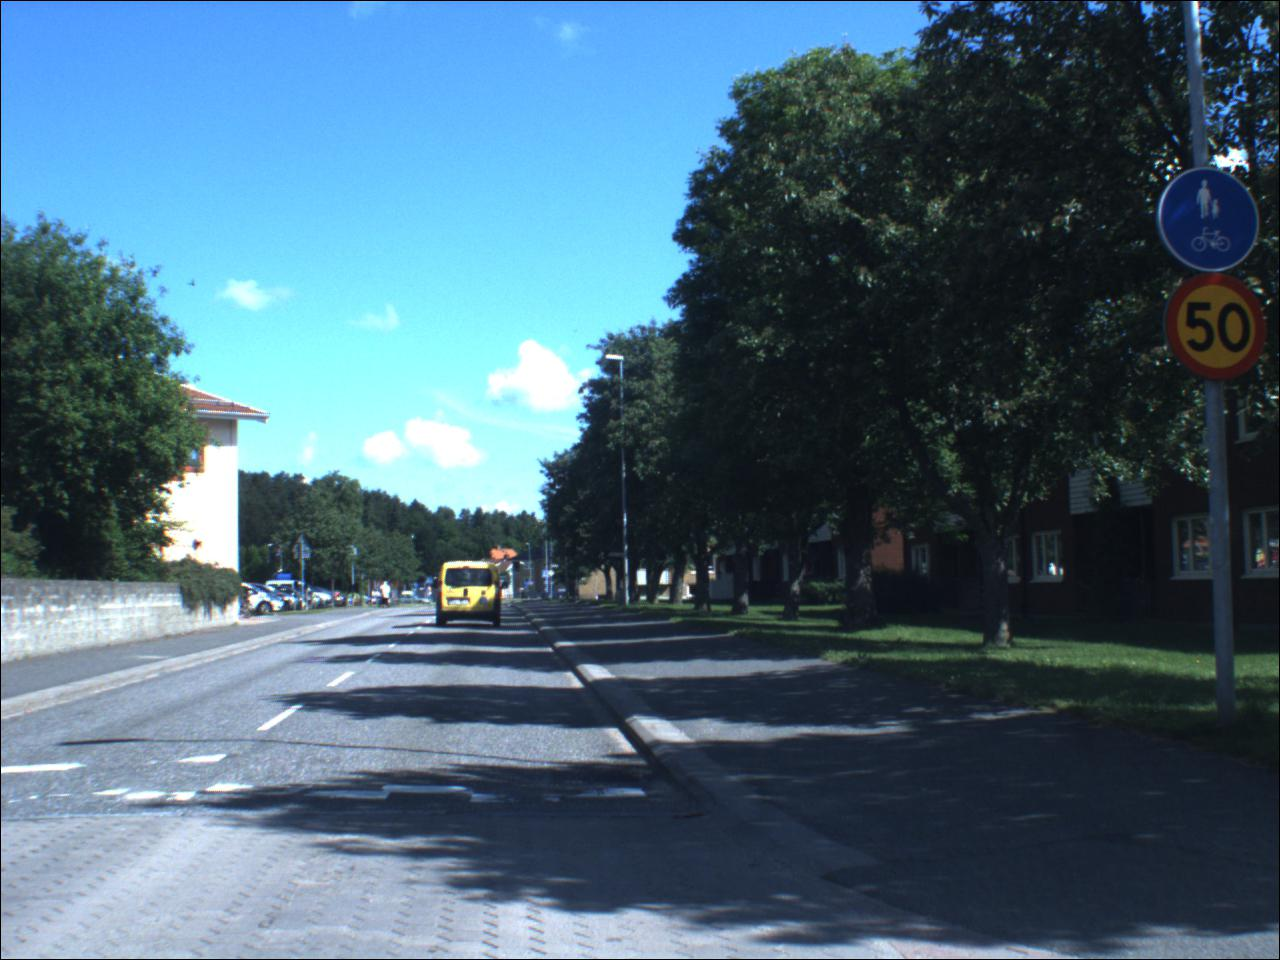50_SIGN: (1167, 272, 1267, 385)
